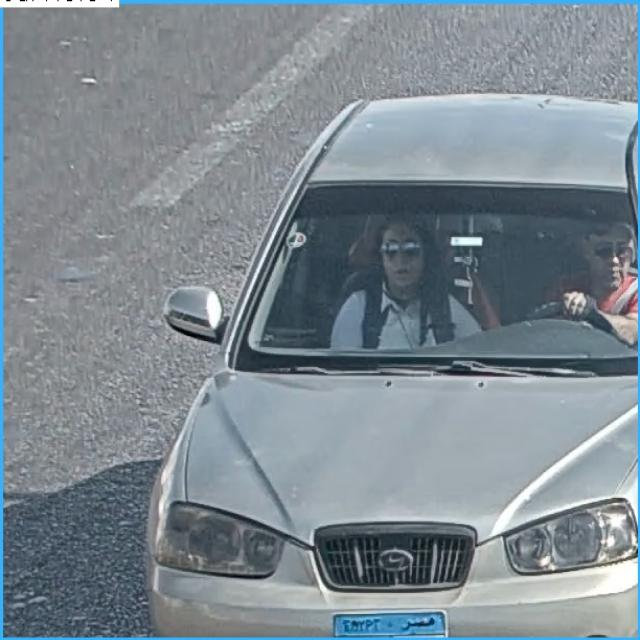windshield: (250, 187, 640, 368)
